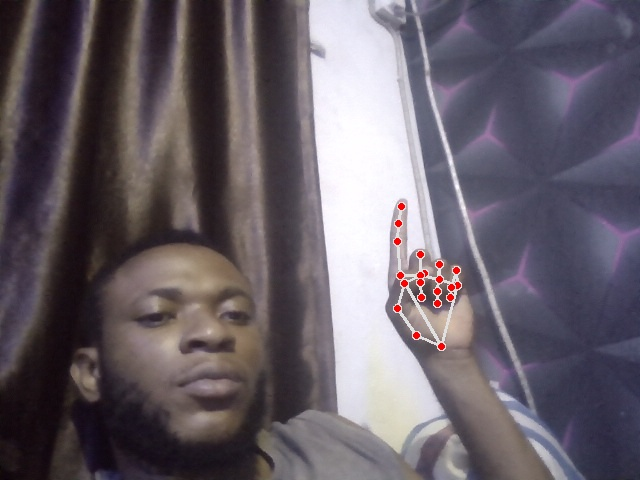number1: (385, 199, 479, 354)
